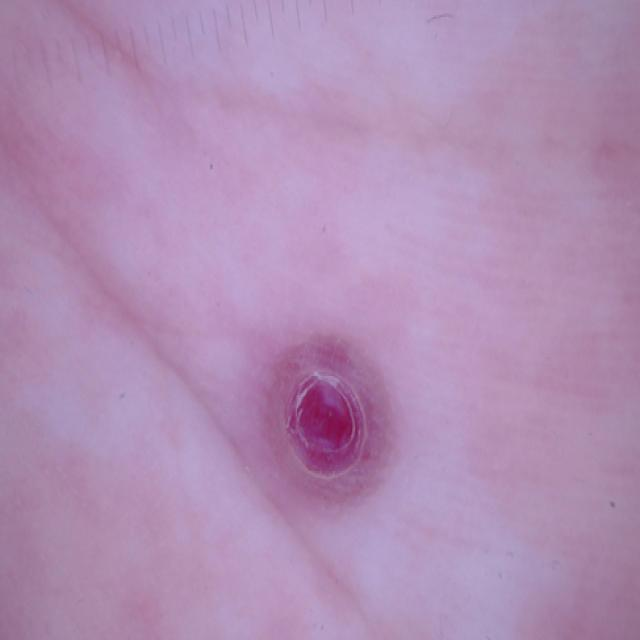Vascular Lesions: (248, 334, 411, 515)
